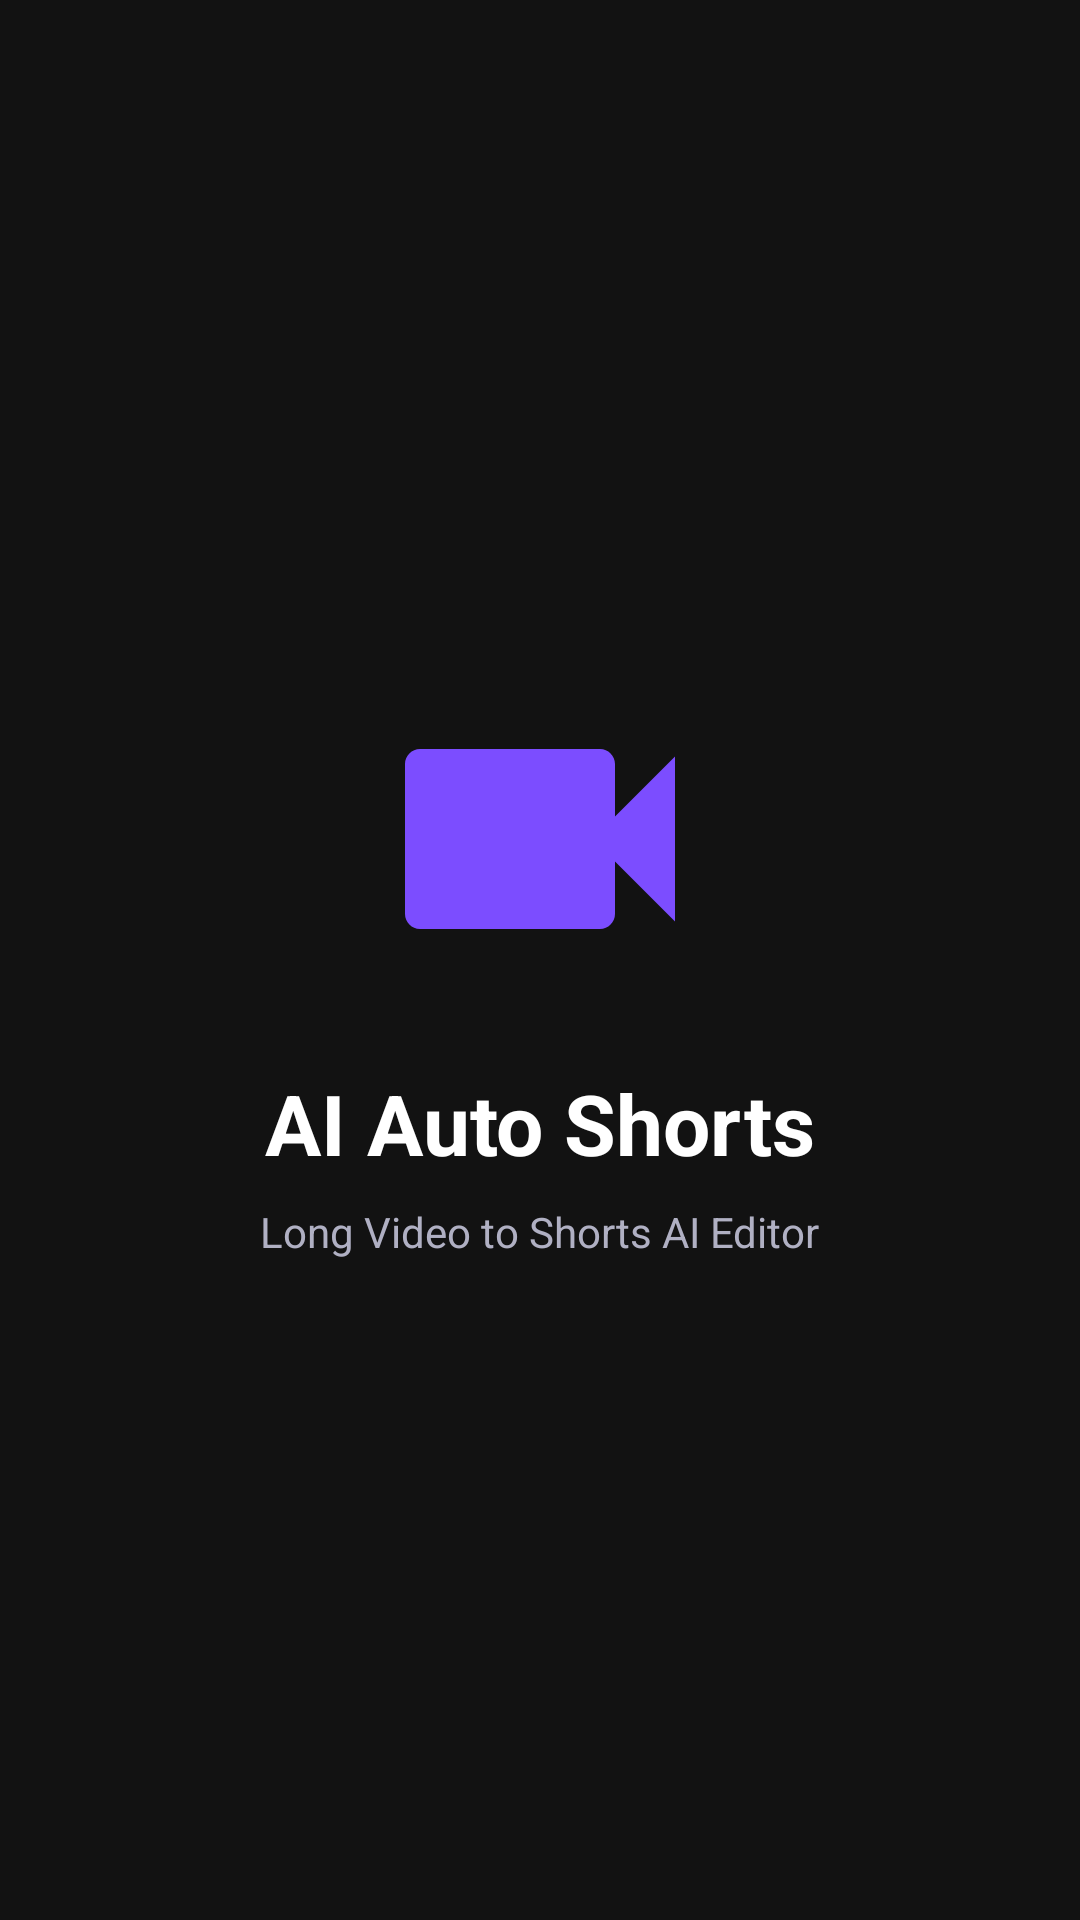

Where icons sit on this 1080*1920 app screen, as (x1, y1, x2, y2):
video: (405, 749, 675, 929)
